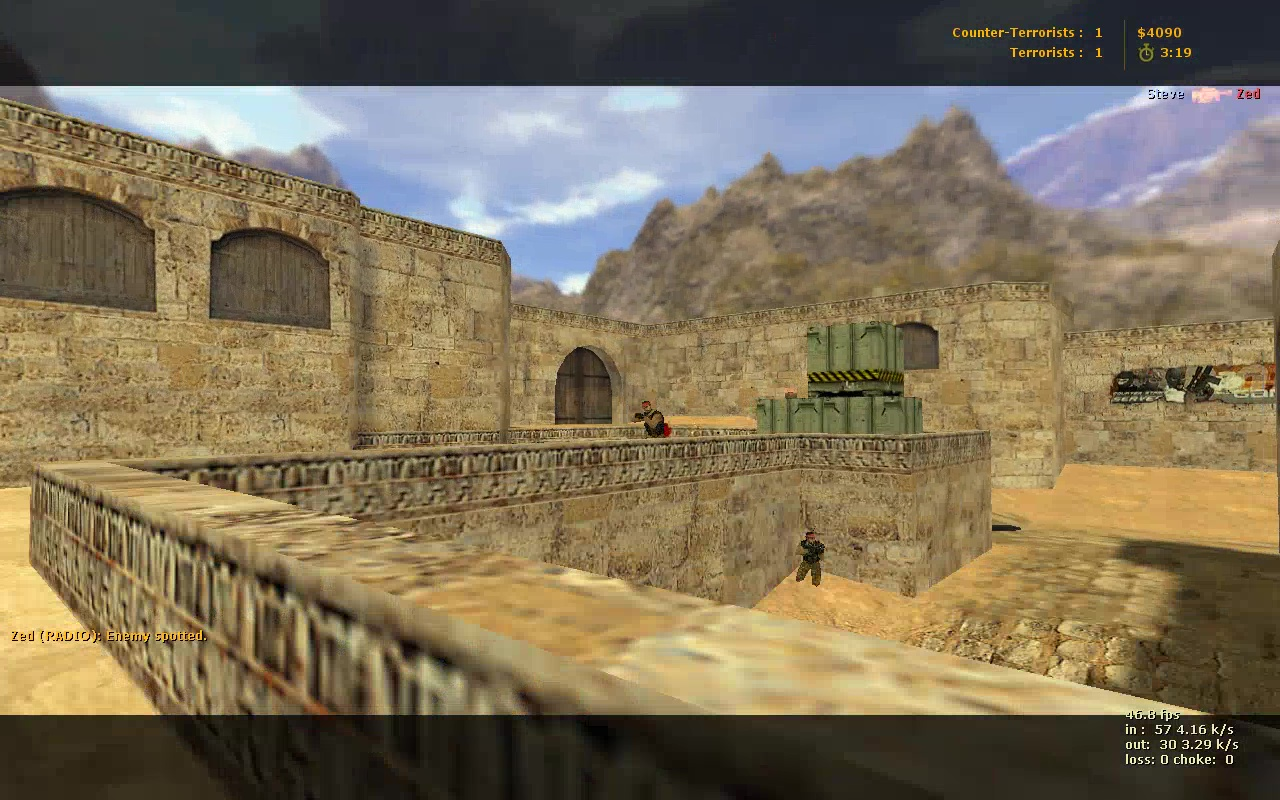terr1: (795, 530, 828, 586), (629, 395, 672, 435)
